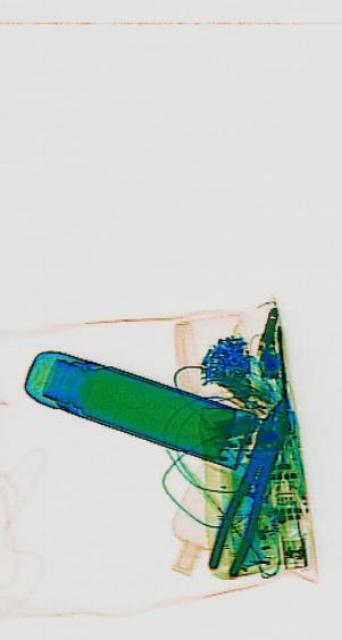Pliers: (202, 380, 295, 592)
